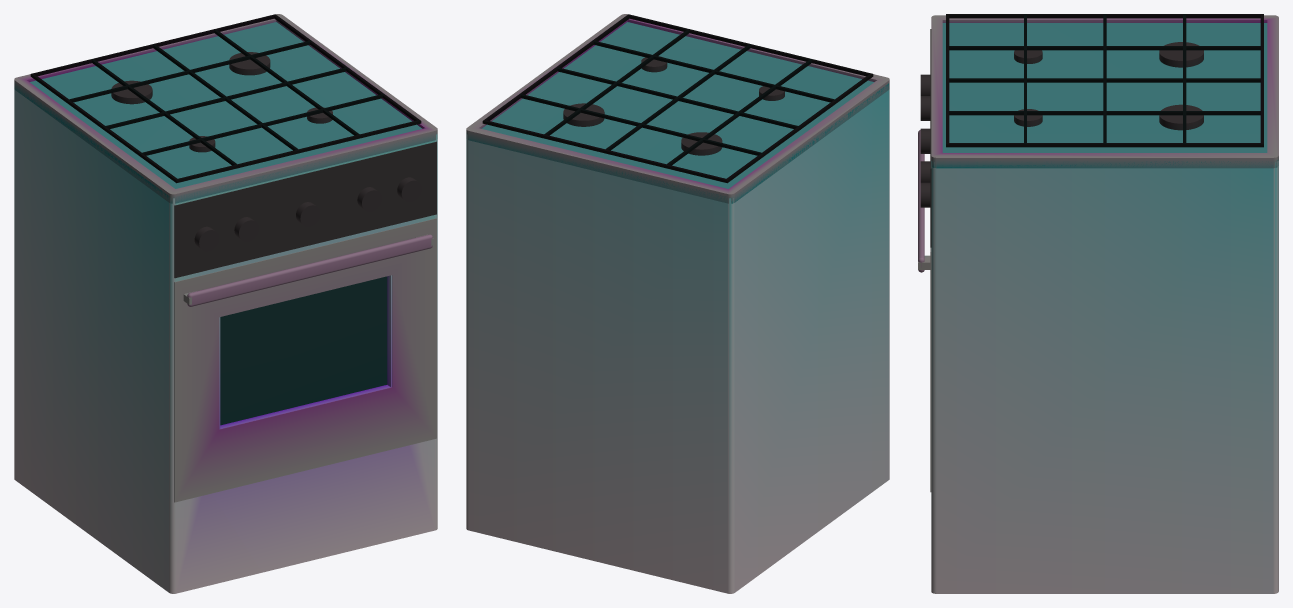
3 renders of one model, left to right at view 1: azimuth 30°, elevation 25°; view 2: azimuth 150°, elevation 25°; view 3: azimuth 270°, elevation 25°, orthographic. The views are drawn at different scales.
Parts seen in each view (by area): view 1: cabinet, door_frame, hob_plate, oven_glass, control_panel, hob_border, grate_edge, handle, grate_cross.002, grate_cross.003, grate_cross.001, grate_long.001 (+4 smaller); view 2: cabinet, hob_plate, hob_border, grate_edge, grate_cross.002, grate_cross.001, grate_cross.003, grate_long.001, grate_long.002, grate_long.003, rear_burner, rear_burner.003; view 3: cabinet, hob_plate, hob_border, grate_edge, grate_long.002, grate_long.001, grate_long.003, rear_burner.003, rear_burner, handle, grate_cross.002, grate_cross.003 (+1 smaller).
Boxes of the visible parts, x1,y1,x2,y2 form: cabinet: (14, 89, 437, 593); door_frame: (174, 218, 436, 502); hob_plate: (14, 22, 436, 202); oven_glass: (220, 276, 387, 425); control_panel: (174, 141, 436, 278); hob_border: (14, 14, 437, 203); grate_edge: (30, 14, 421, 183); handle: (187, 234, 432, 306); grate_cross.002: (103, 67, 348, 128); grate_cross.003: (67, 40, 312, 102); grate_cross.001: (140, 93, 384, 155); grate_long.001: (91, 59, 238, 168); cabinet: (466, 89, 889, 593); hob_plate: (466, 22, 889, 203); hob_border: (466, 14, 889, 203); grate_edge: (482, 14, 873, 183); grate_cross.002: (555, 67, 800, 128); grate_cross.001: (591, 40, 836, 102); grate_cross.003: (519, 93, 763, 155); grate_long.001: (665, 59, 812, 167); grate_long.002: (604, 43, 751, 152); grate_long.003: (543, 29, 690, 138); rear_burner: (563, 103, 604, 126); rear_burner.003: (681, 132, 722, 155); cabinet: (931, 161, 1278, 593); hob_plate: (931, 23, 1278, 168); hob_border: (931, 15, 1278, 168); grate_edge: (946, 14, 1263, 147); grate_long.002: (946, 78, 1263, 82); grate_long.001: (946, 46, 1263, 50); grate_long.003: (946, 111, 1260, 115); rear_burner.003: (1159, 42, 1203, 67); rear_burner: (1159, 104, 1203, 130); handle: (918, 130, 924, 272); grate_cross.002: (1103, 14, 1106, 144); grate_cross.003: (1183, 14, 1186, 144).
Size of the model in its own units: 0.4139 by 0.6 by 0.4423.
